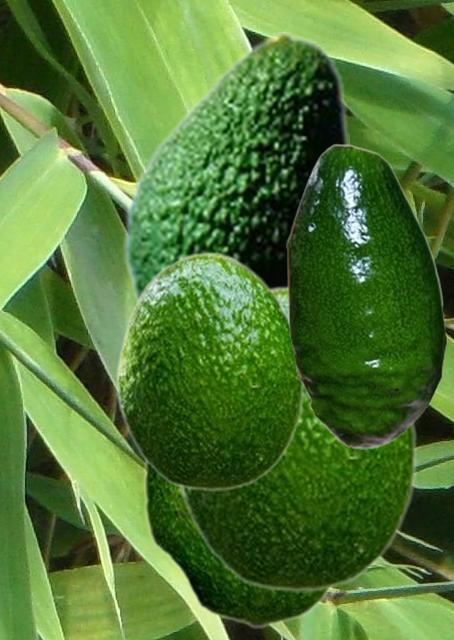avocado: (174, 284, 417, 591), (123, 32, 348, 306), (286, 143, 446, 448), (116, 251, 304, 490), (142, 459, 333, 627)
